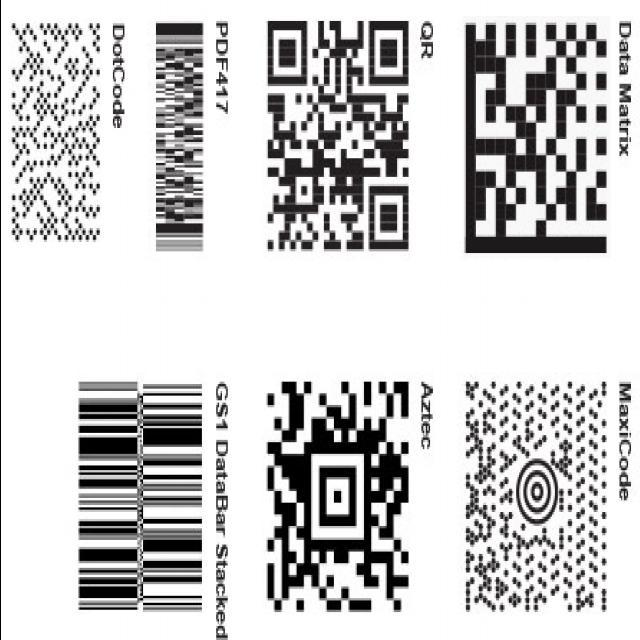Data-Matrix: (462, 17, 610, 259)
